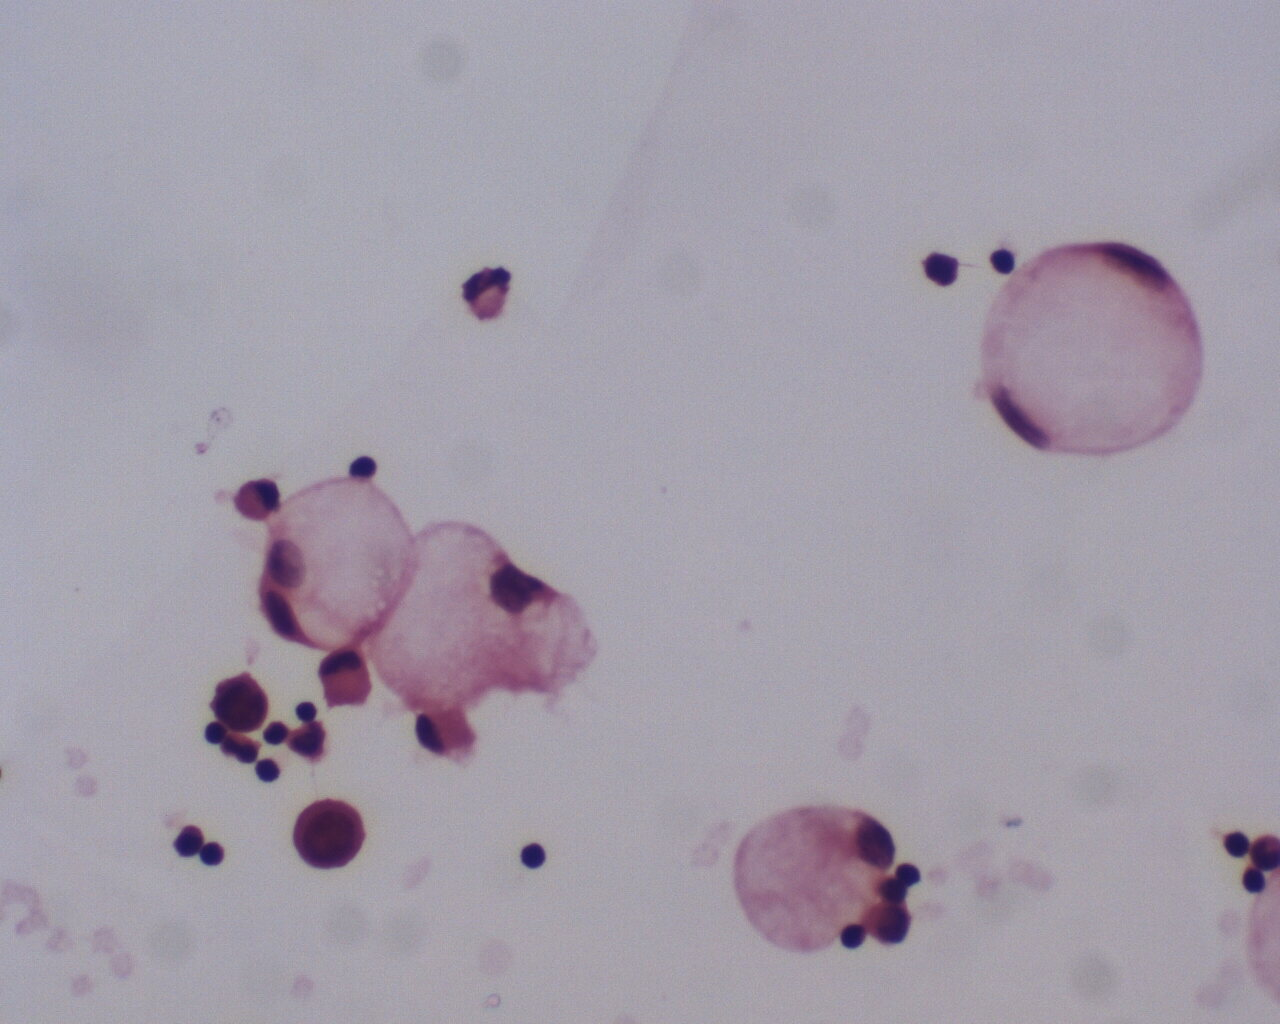ab: (290, 795, 373, 875), (208, 666, 272, 736)
histo: (978, 227, 1211, 464), (256, 471, 413, 653), (734, 795, 898, 960)
lymph: (516, 833, 551, 876)
